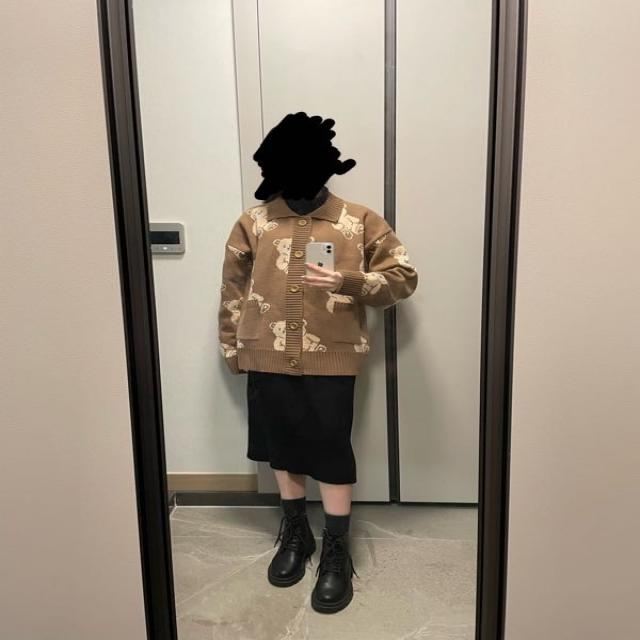cardigan: (217, 182, 420, 371)
skirt: (242, 359, 362, 486)
